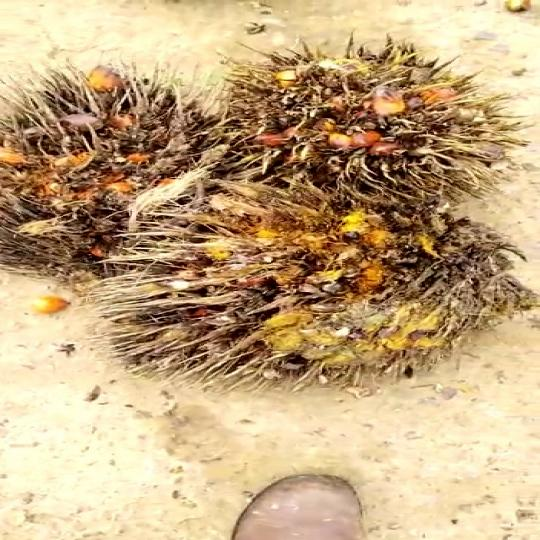terlalu masak: (102, 197, 521, 378), (215, 46, 516, 219), (0, 68, 223, 276)
